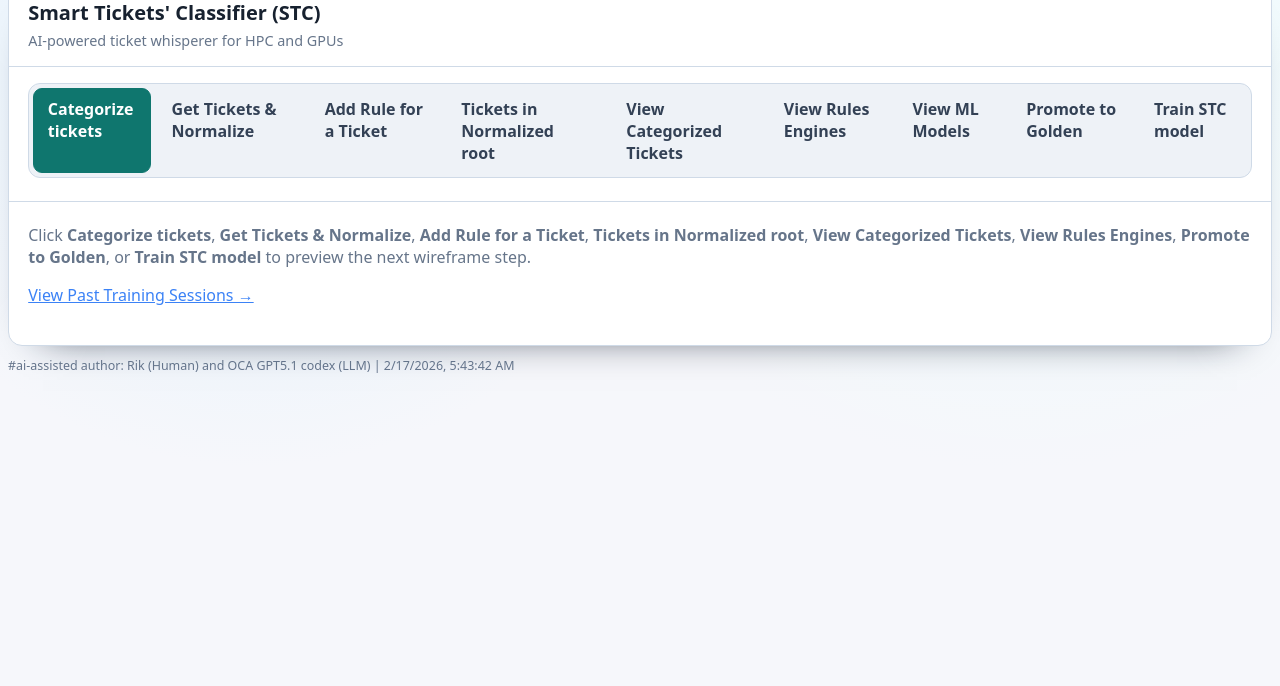
Test: STC wireframe flow › shows input fields after clicking categorize
Click the link "Categorize tickets". click: (92, 131)
box: [33,88,151,173]
(page scrolled)
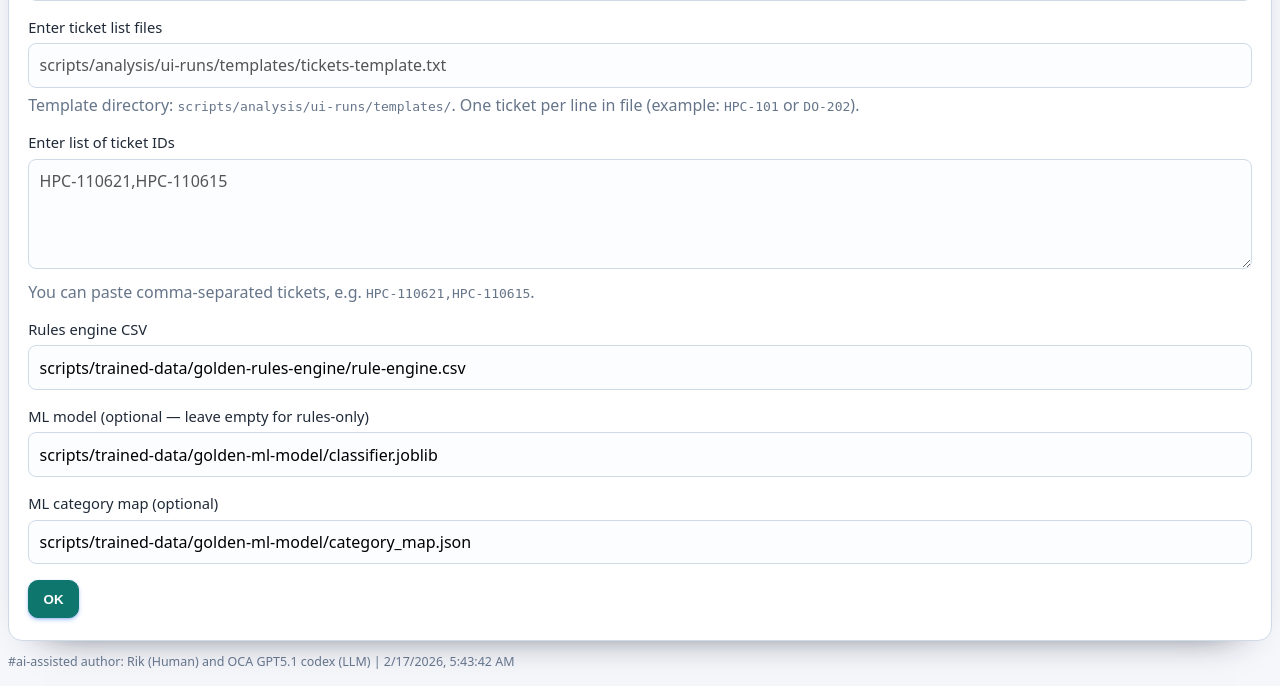
expect the field labelled "Enter ticket list files" is shown: met, box [28,43,1252,88]
expect the text box labelled "Enter list of ticket IDs" is shown: met, box [28,159,1252,269]
expect the button "OK" is shown: met, box [28,580,79,618]
